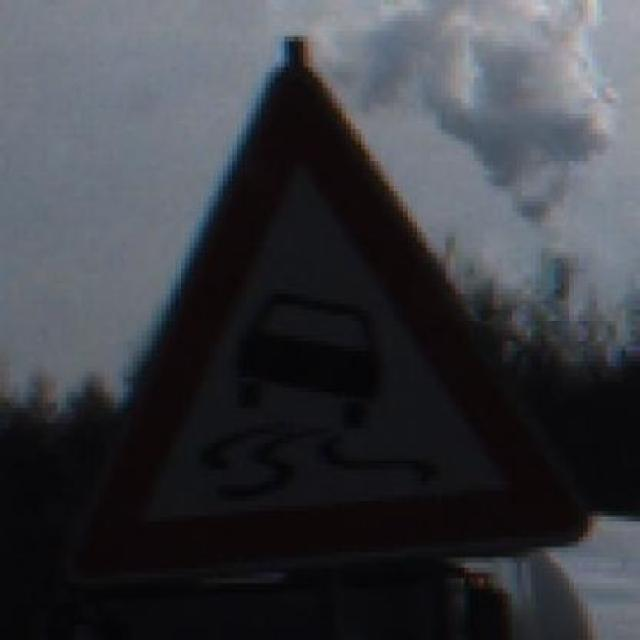Slippery Road Ahead: (61, 21, 602, 573)
